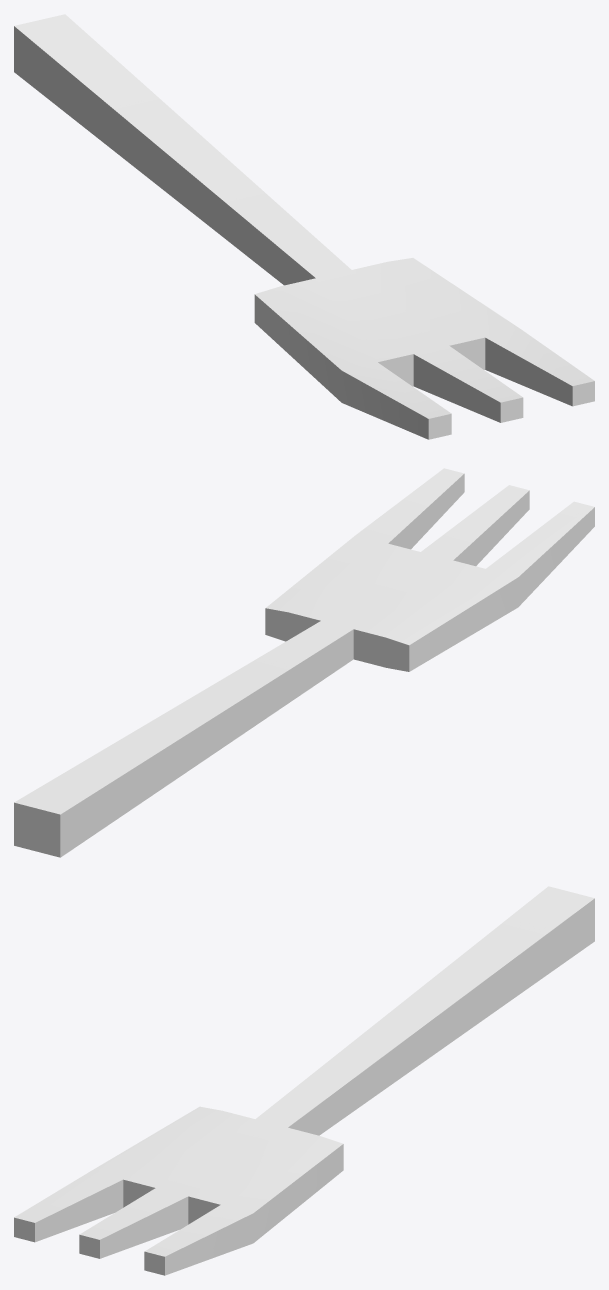
File: Fork.fbx
3 renders of one model, top to bottom at view 1: azimuth 30°, elevation 25°; view 2: azimuth 150°, elevation 25°; view 3: azimuth 330°, elevation 25°, orthographic. The views are drawn at different scales.
Parts seen in each view (by area): view 1: Fork; view 2: Fork; view 3: Fork.
Part boxes in pixels (left/top/right/bottom): Fork: left=14, top=14, right=594, bottom=439; Fork: left=14, top=468, right=594, bottom=857; Fork: left=14, top=886, right=594, bottom=1275.
Bounding box in the file's own units: 5.64 × 1.76 × 27.4.
